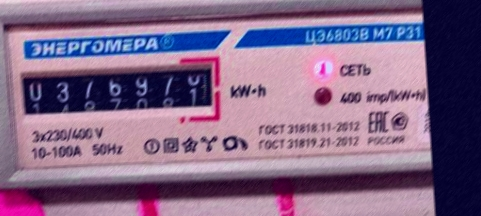0: (29, 79, 44, 102)
1: (187, 87, 200, 107)
3: (56, 81, 72, 104)
6: (107, 73, 124, 97)
7: (80, 76, 97, 100), (161, 73, 177, 97)
9: (133, 74, 150, 98)
screen: (11, 51, 227, 137)
